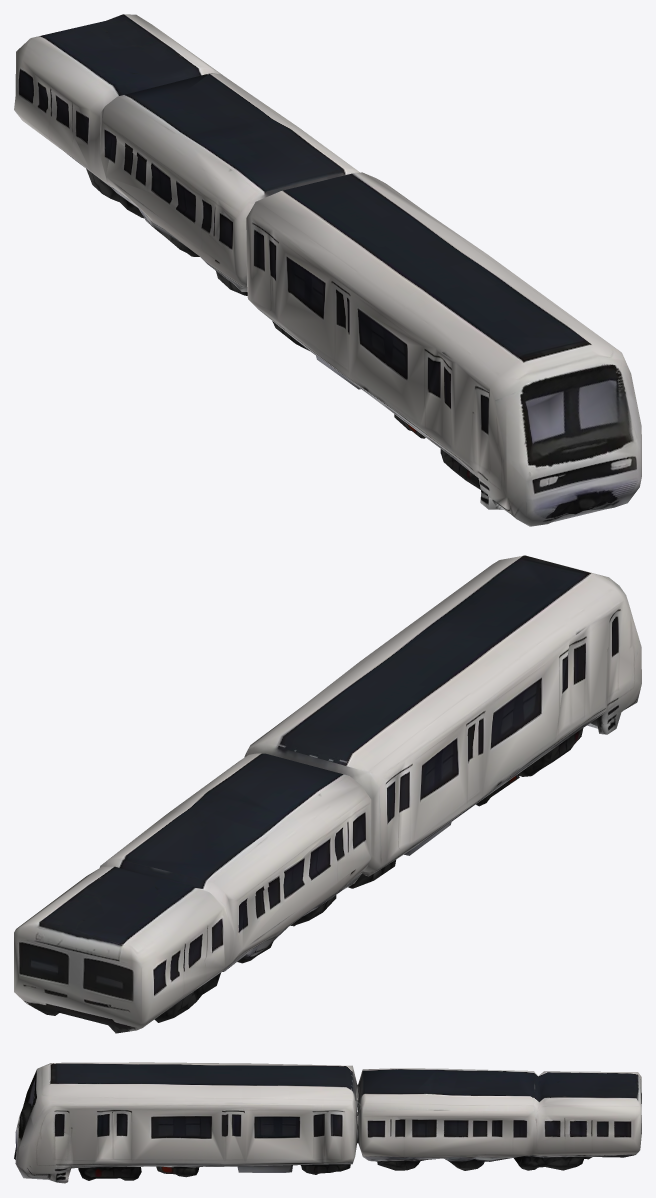
Rendered from metro.glb.
The picture shows the model from 3 angles, top to bottom: view 1: azimuth 30°, elevation 25°; view 2: azimuth 150°, elevation 25°; view 3: azimuth 270°, elevation 25°; orthographic projection. The views are drawn at different scales.
Visible parts, largest first — view 1: material; view 2: material; view 3: material.
Boxes of the visible parts, box(x1,y1,x2,y2) form: material: box(14, 14, 641, 526); material: box(14, 555, 641, 1033); material: box(14, 1062, 641, 1183).
Bounding box in the file's own units: 0.1853 × 0.2019 × 1.18.
Materials: 1 (1 with a texture image).
